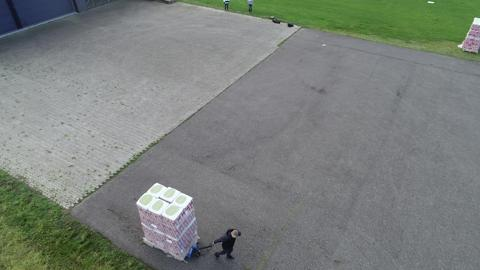RockwoolPallet: (137, 181, 200, 262)
